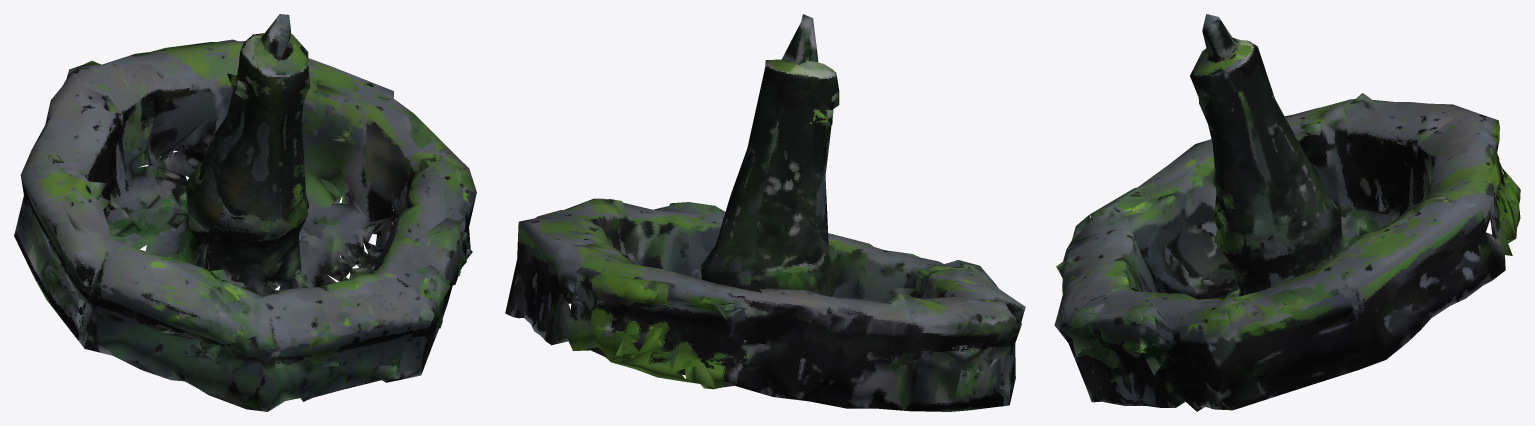
Rendered from fountain-column.glb.
3 renders of one model, left to right at view 1: azimuth 30°, elevation 25°; view 2: azimuth 150°, elevation 25°; view 3: azimuth 270°, elevation 25°, orthographic. The views are drawn at different scales.
Parts seen in each view (by area): view 1: fountain-212-3; view 2: fountain-212-3; view 3: fountain-212-3.
Part boxes in pixels (left/top/right/bottom): fountain-212-3: left=14, top=14, right=476, bottom=411; fountain-212-3: left=505, top=14, right=1025, bottom=411; fountain-212-3: left=1054, top=14, right=1520, bottom=411.
Bounding box in the file's own units: 1.96 × 1.61 × 1.95.
Materials: 1 (1 with a texture image).
